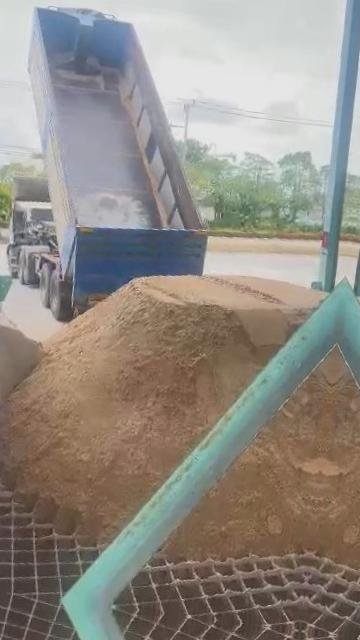sand: (0, 277, 322, 542), (168, 353, 335, 558), (0, 312, 44, 413)
